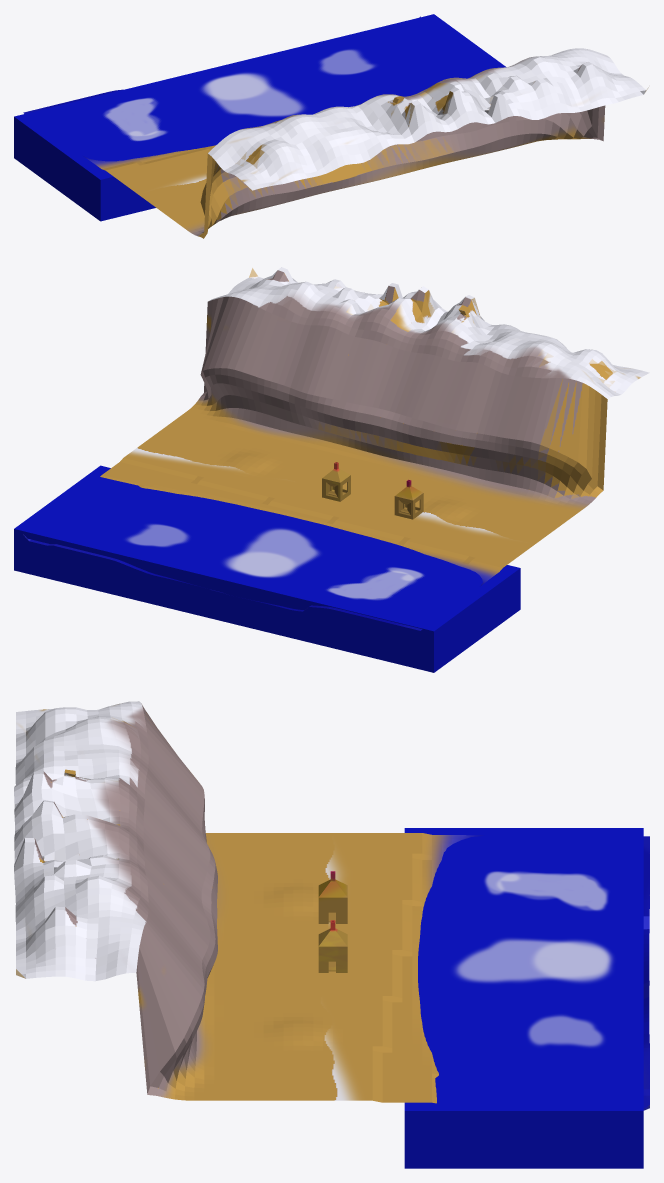
The model's file is Marelys.glb.
3 renders of one model, top to bottom at view 1: azimuth 30°, elevation 25°; view 2: azimuth 150°, elevation 25°; view 3: azimuth 270°, elevation 25°, orthographic. The views are drawn at different scales.
Parts seen in each view (by area): view 1: Marelys; view 2: Marelys; view 3: Marelys.
Part boxes in pixels (x1,y1,x2,y2): Marelys: (14,14,648,238); Marelys: (14,267,649,672); Marelys: (14,701,649,1168).
Size of the model in its own units: 461 by 181 by 438.
Materials: 4 (4 with a texture image).
